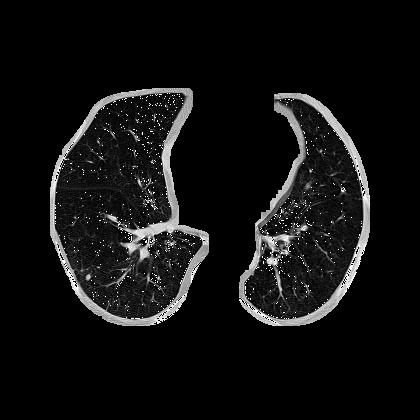PN: (85, 274, 91, 280)
